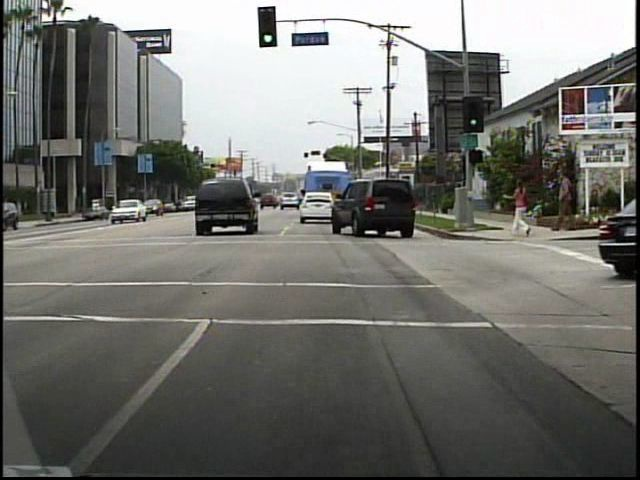person: (505, 173, 538, 243), (548, 167, 578, 232)
